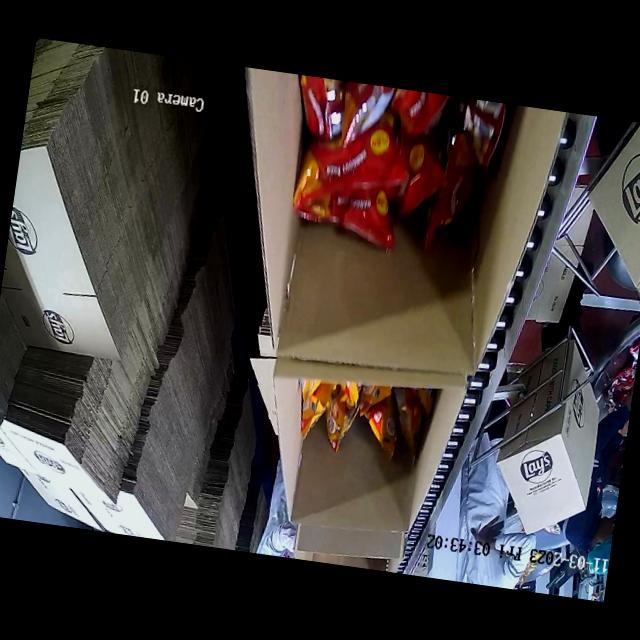cheese: (281, 362, 428, 468)
masala: (296, 78, 514, 300)
